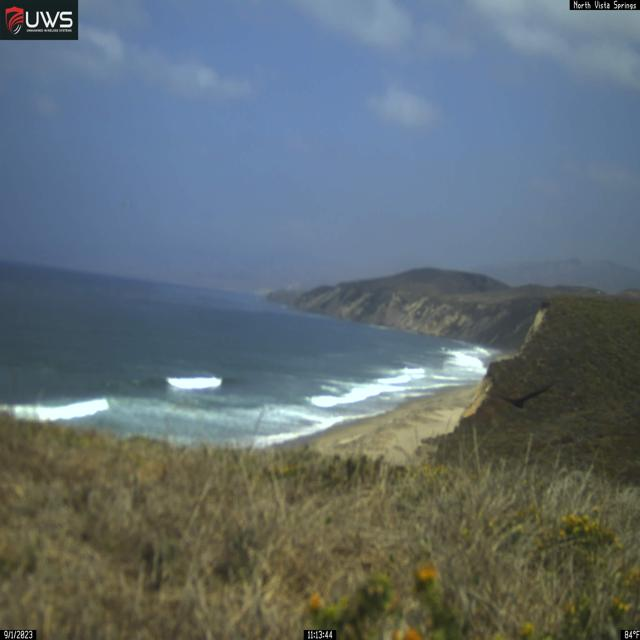bird: (485, 380, 554, 411)
